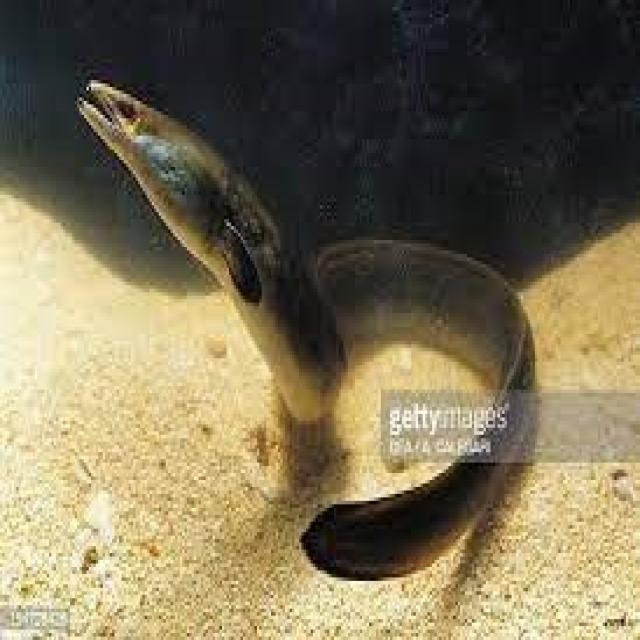Freshwater-Eel: (77, 59, 585, 590)
